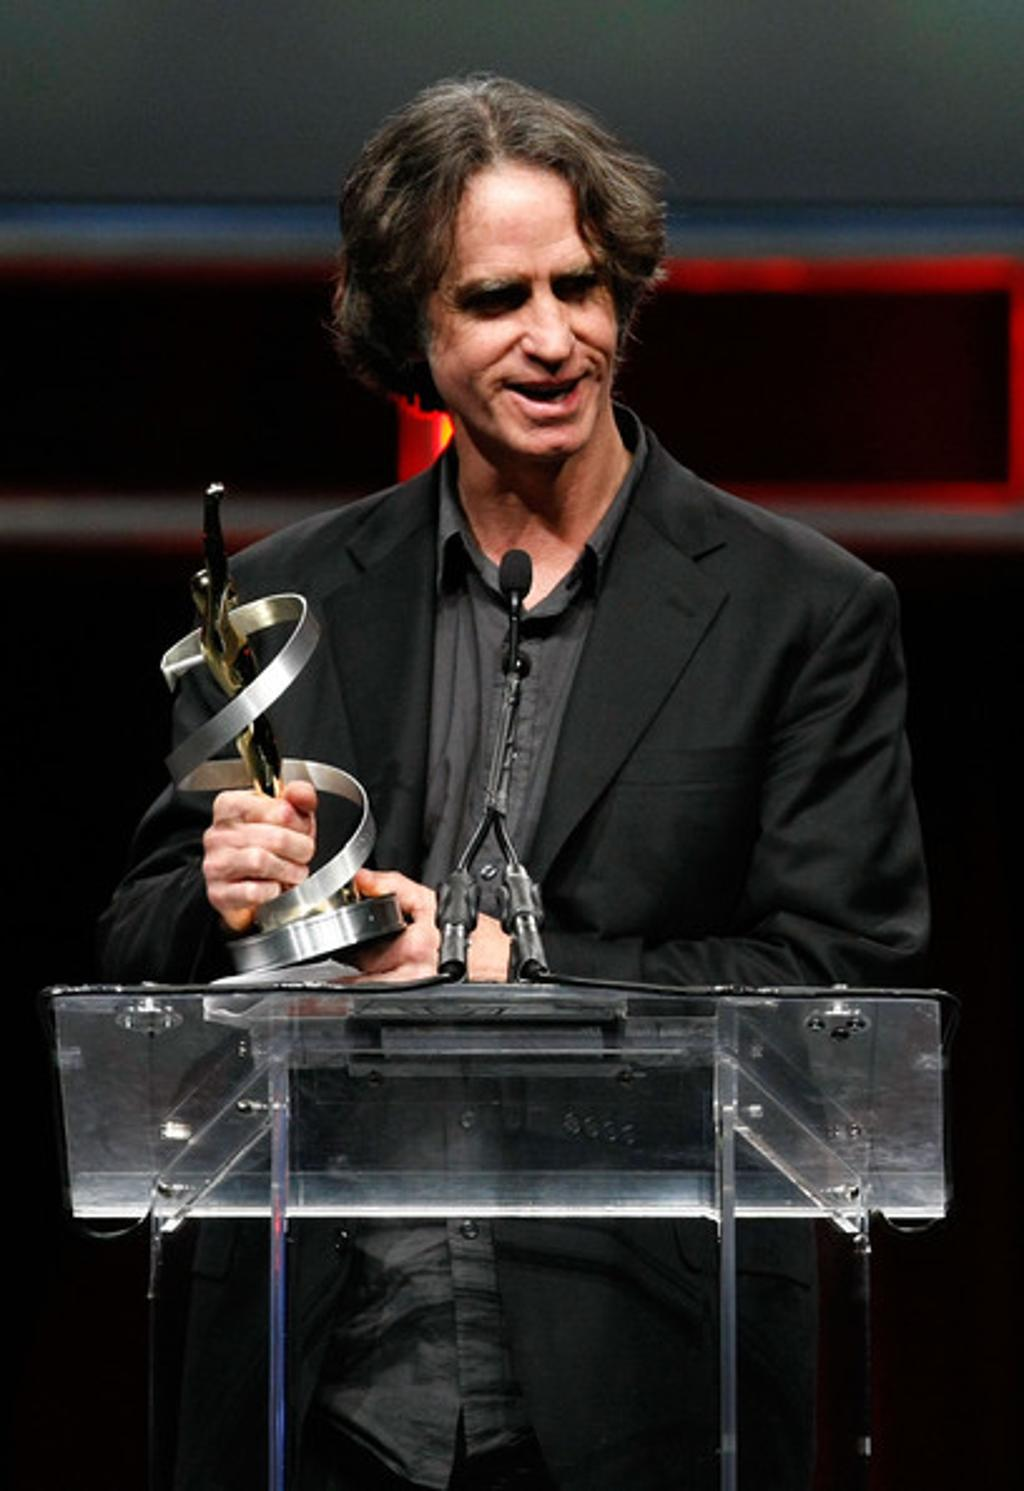face: (413, 131, 617, 457)
